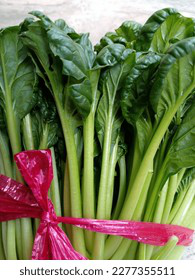Sawi: (10, 20, 195, 229)
